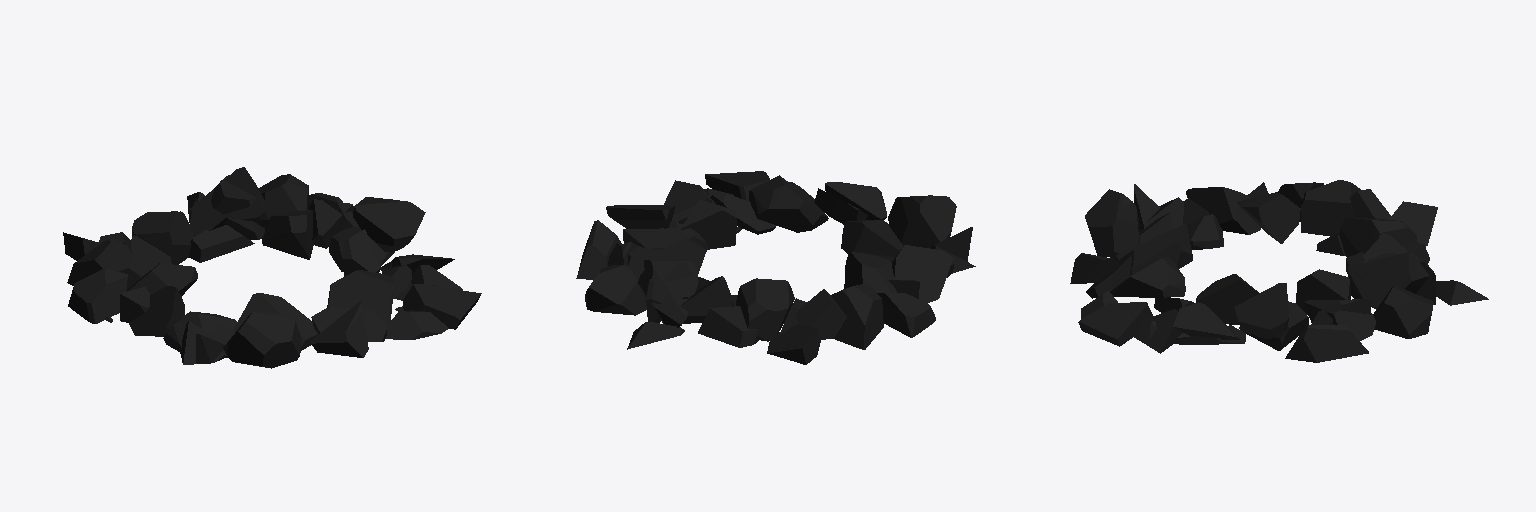
File: CampFireModel.obj
The picture shows the model from 3 angles: view 1: azimuth 30°, elevation 25°; view 2: azimuth 150°, elevation 25°; view 3: azimuth 270°, elevation 25°; orthographic projection.
Parts seen in each view (by area): view 1: Cube_cell.054, Cube_cell.045, Cube_cell.005, Cube_cell.053, Cube_cell.015, Cube_cell.068, Cube_cell.012, Cube_cell.007, Cube_cell.039, Cube_cell.004, Cube_cell, Cube_cell.028 (+20 smaller); view 2: Cube_cell.054, Cube_cell.005, Cube_cell.015, Cube_cell.039, Cube_cell, Cube_cell.004, Cube_cell.024, Cube_cell.023, Cube_cell.053, Cube_cell.048, Cube_cell.017, Cube_cell.050 (+16 smaller); view 3: Cube_cell.054, Cube_cell.017, Cube_cell.039, Cube_cell, Cube_cell.003, Cube_cell.068, Cube_cell.045, Cube_cell.005, Cube_cell.004, Cube_cell.015, Cube_cell.050, Cube_cell.023 (+18 smaller).
Boxes of the visible parts, box(x1,y1,x2,y2) form: Cube_cell.054: box(223, 311, 301, 368); Cube_cell.045: box(353, 201, 425, 252); Cube_cell.005: box(327, 270, 393, 324); Cube_cell.053: box(68, 268, 127, 323); Cube_cell.015: box(132, 211, 193, 264); Cube_cell.068: box(403, 284, 481, 329); Cube_cell.012: box(310, 302, 368, 357); Cube_cell.007: box(262, 210, 313, 259); Cube_cell.039: box(67, 239, 139, 288); Cube_cell.004: box(129, 286, 184, 336); Cube_cell: box(258, 174, 309, 214); Cube_cell.028: box(189, 225, 254, 262); Cube_cell.054: box(888, 195, 956, 246); Cube_cell.005: box(749, 175, 828, 232); Cube_cell.015: box(736, 278, 794, 341); Cube_cell.039: box(831, 284, 883, 349); Cube_cell: box(585, 265, 646, 315); Cube_cell.004: box(892, 245, 952, 302); Cube_cell.024: box(681, 200, 736, 249); Cube_cell.023: box(841, 220, 903, 256); Cube_cell.053: box(877, 293, 935, 337); Cube_cell.048: box(698, 306, 758, 347); Cube_cell.017: box(638, 261, 698, 327); Cube_cell.050: box(844, 252, 896, 292); Cube_cell.054: box(1085, 189, 1139, 257); Cube_cell.017: box(1347, 252, 1428, 309); Cube_cell.039: box(1301, 180, 1360, 236); Cube_cell: box(1373, 287, 1433, 338); Cube_cell.003: box(1285, 325, 1368, 362); Cube_cell.068: box(1078, 302, 1152, 346); Cube_cell.045: box(1234, 283, 1288, 338); Cube_cell.005: box(1110, 257, 1185, 297); Cube_cell.004: box(1186, 187, 1260, 234); Cube_cell.015: box(1339, 218, 1417, 257); Cube_cell.050: box(1237, 192, 1300, 243); Cube_cell.023: box(1113, 224, 1192, 275).
Size of the model in its own units: 3.11 by 0.5258 by 3.39.